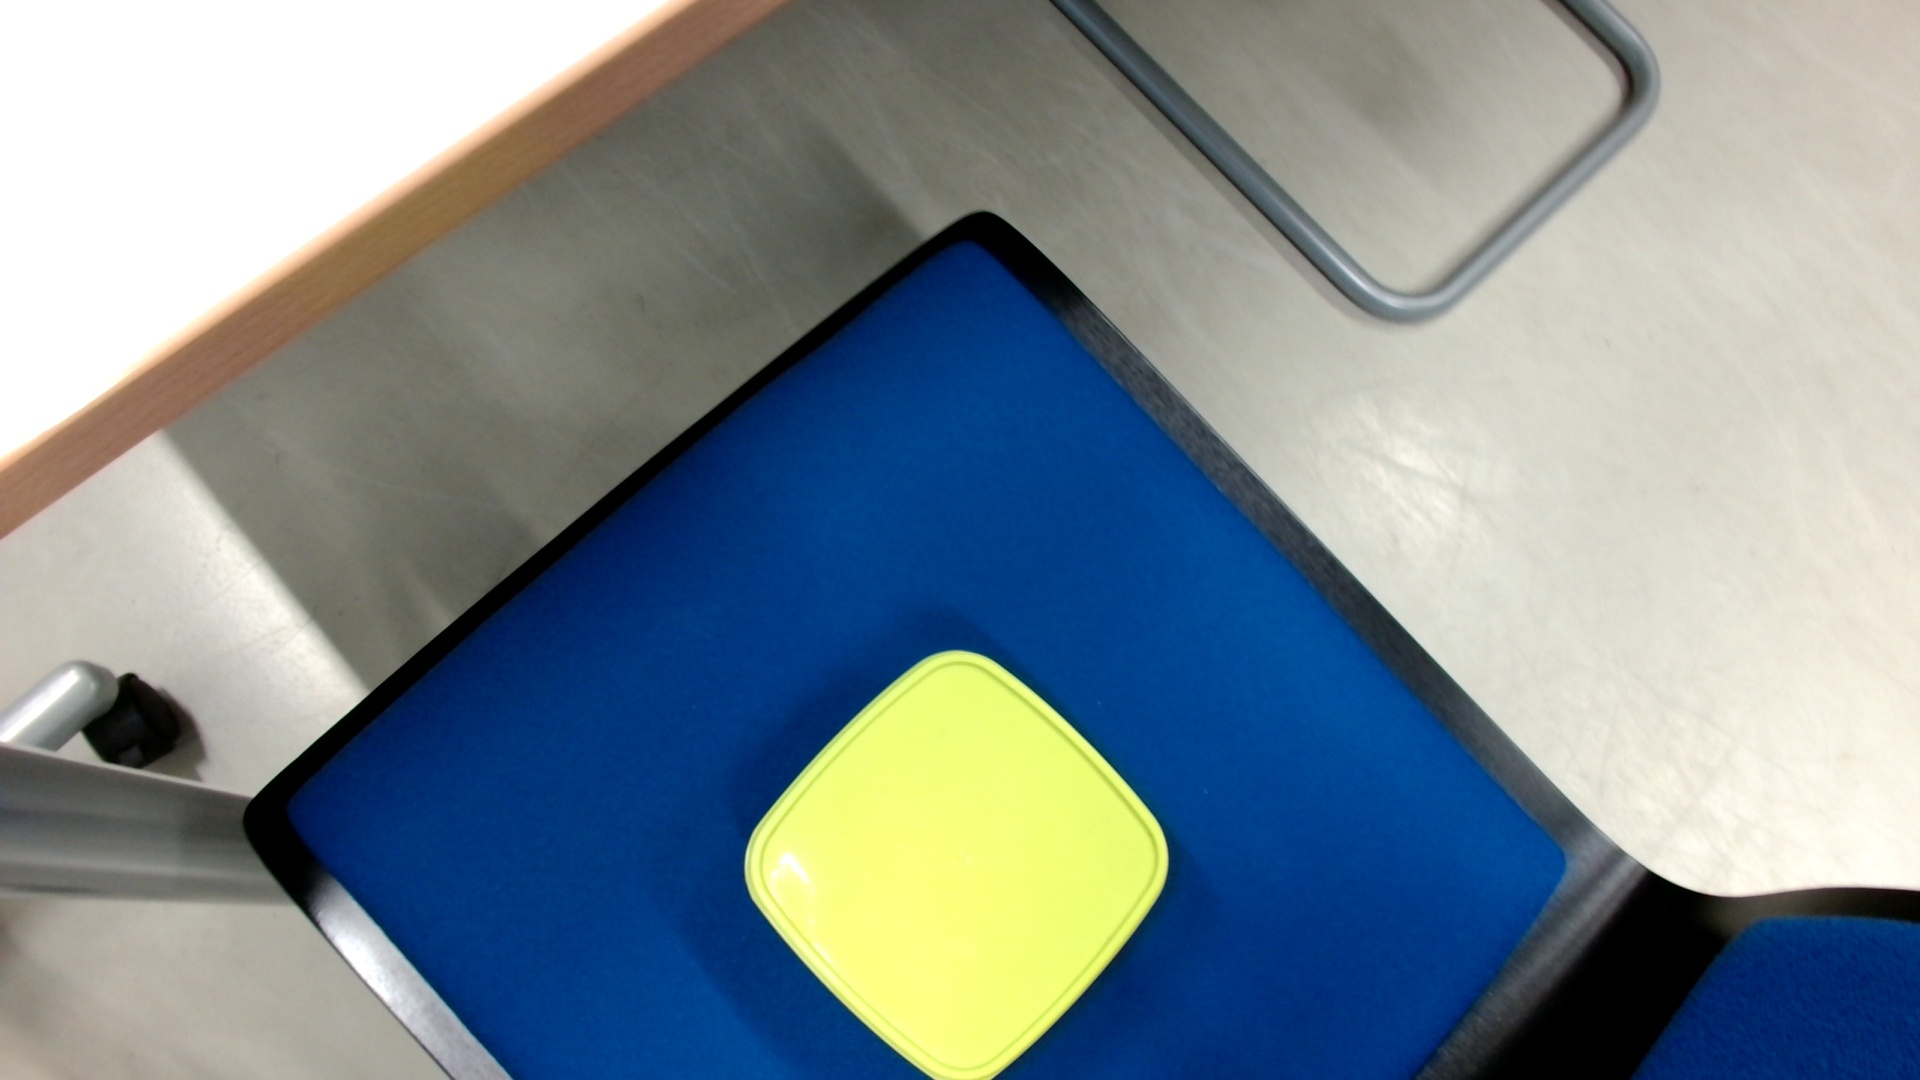Box: (733, 640, 1178, 1080)
